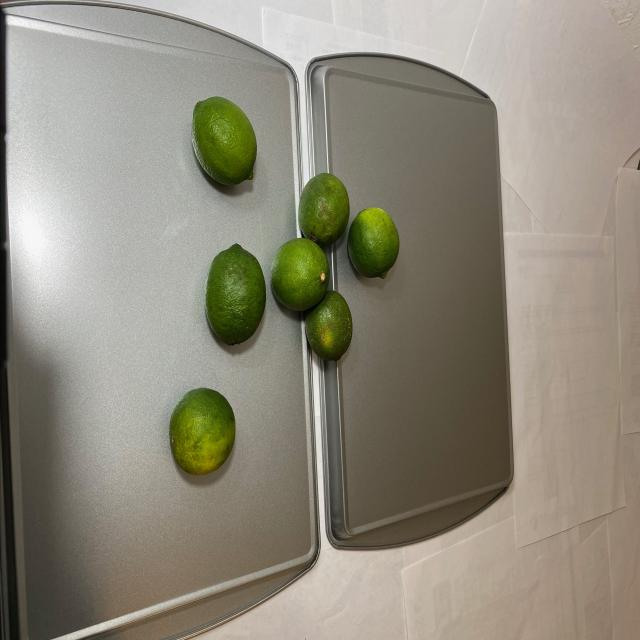lemon: (172, 96, 402, 482)
